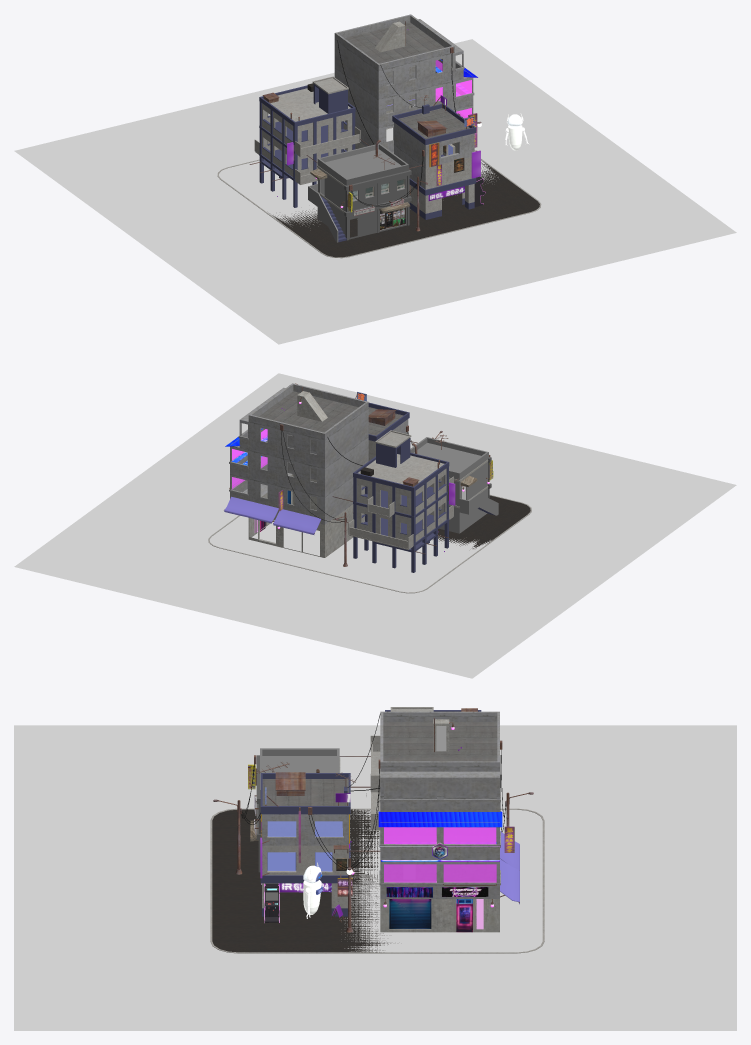
3 views of the same model, one above another, from view 1: azimuth 30°, elevation 25°; view 2: azimuth 150°, elevation 25°; view 3: azimuth 270°, elevation 25° (orthographic). The views are drawn at different scales.
Visible parts, largest first — view 1: Plane.001, Object_39.001, Object_13, bawah.001, Object_14, Object_46, Object_42, Object_10, Object_11, Object_25, Object_16, Object_45 (+3 smaller); view 2: Plane.001, Object_39, Object_13, Object_14, Object_39.001, Object_46, Object_45, Object_10, bawah.001, Object_38, Object_25; view 3: Plane.001, Object_39, bawah.001, Object_10, Object_13, Object_11, Object_25, Object_45, Object_46, Cube, Cube.009, Object_38 (+11 smaller).
Part boxes in pixels (bbox=[...]): Plane.001: bbox=[14, 39, 736, 344]; Object_39.001: bbox=[334, 16, 474, 189]; Object_13: bbox=[217, 76, 541, 258]; bawah.001: bbox=[269, 161, 539, 257]; Object_14: bbox=[259, 84, 474, 242]; Object_46: bbox=[308, 143, 408, 242]; Object_42: bbox=[344, 165, 411, 240]; Object_10: bbox=[345, 22, 469, 138]; Object_11: bbox=[392, 103, 476, 195]; Object_25: bbox=[249, 21, 481, 231]; Object_16: bbox=[348, 179, 405, 229]; Object_45: bbox=[317, 21, 452, 212]; Plane.001: bbox=[14, 373, 736, 678]; Object_39: bbox=[229, 383, 368, 524]; Object_13: bbox=[208, 430, 531, 593]; Object_14: bbox=[353, 438, 494, 572]; Object_39.001: bbox=[229, 385, 408, 524]; Object_46: bbox=[410, 437, 498, 533]; Object_45: bbox=[248, 391, 488, 557]; Object_10: bbox=[259, 391, 403, 435]; bawah.001: bbox=[433, 495, 530, 548]; Object_38: bbox=[224, 496, 321, 534]; Object_25: bbox=[224, 383, 490, 566]; Plane.001: bbox=[14, 725, 736, 1030]; Object_39: bbox=[262, 711, 500, 898]; bawah.001: bbox=[212, 809, 390, 952]; Object_10: bbox=[262, 722, 497, 805]; Object_13: bbox=[210, 707, 544, 953]; Object_11: bbox=[260, 773, 350, 883]; Object_25: bbox=[213, 708, 533, 932]; Object_45: bbox=[339, 719, 499, 932]; Object_46: bbox=[260, 748, 339, 797]; Cube: bbox=[378, 811, 502, 827]; Cube.009: bbox=[389, 899, 431, 928]; Object_38: bbox=[500, 831, 519, 904].
Size of the model in its own units: 96.82 by 29.12 by 96.82.
70 materials, 19 textured.
